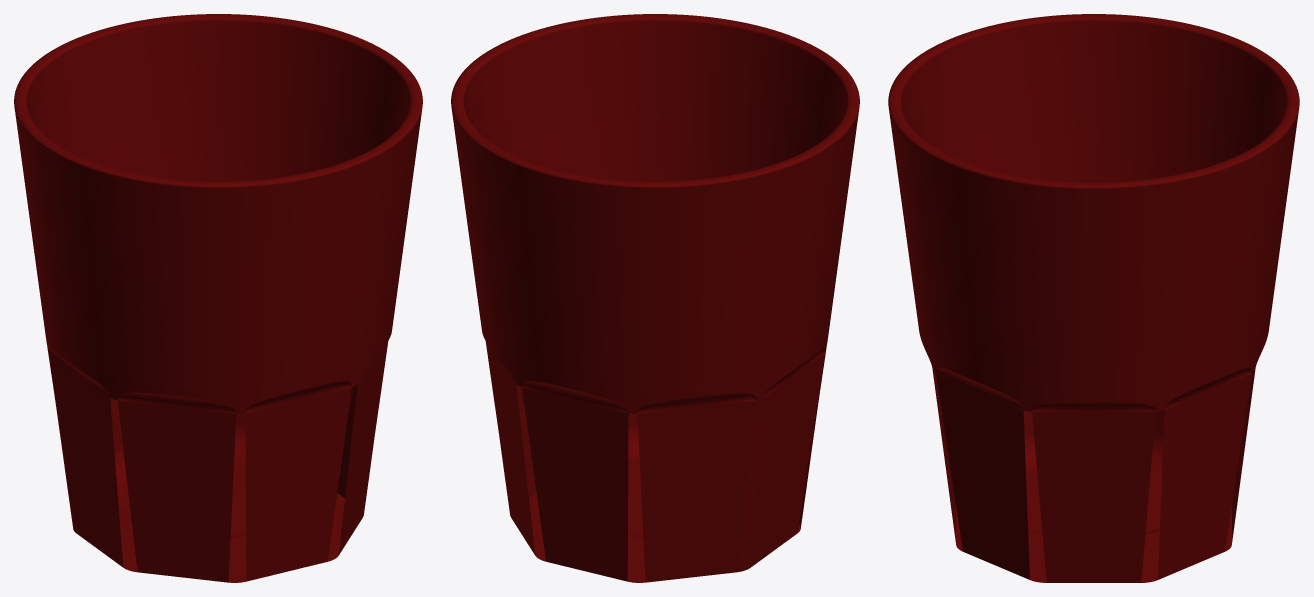
3 views of the same model, side by side, from view 1: azimuth 30°, elevation 25°; view 2: azimuth 150°, elevation 25°; view 3: azimuth 270°, elevation 25° (orthographic).
Size of the model in its own units: 0.068 by 0.0776 by 0.068.
